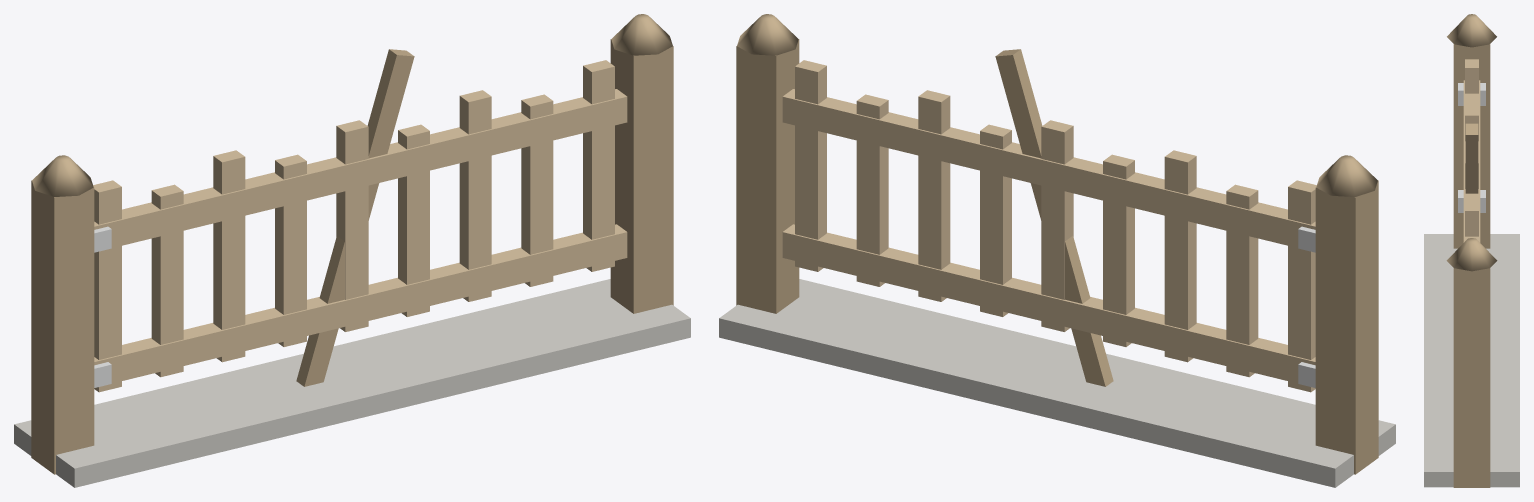
The model's file is garden_gate.fbx.
3 renders of one model, left to right at view 1: azimuth 30°, elevation 25°; view 2: azimuth 150°, elevation 25°; view 3: azimuth 270°, elevation 25°, orthographic. The views are drawn at different scales.
Visible parts, largest first — view 1: EN_garden_gate; view 2: EN_garden_gate; view 3: EN_garden_gate.
Part boxes in pixels (left/top/right/bottom): EN_garden_gate: left=14, top=14, right=690, bottom=487; EN_garden_gate: left=719, top=14, right=1395, bottom=487; EN_garden_gate: left=1424, top=14, right=1519, bottom=487.
Bounding box in the file's own units: 206 × 104 × 34.
